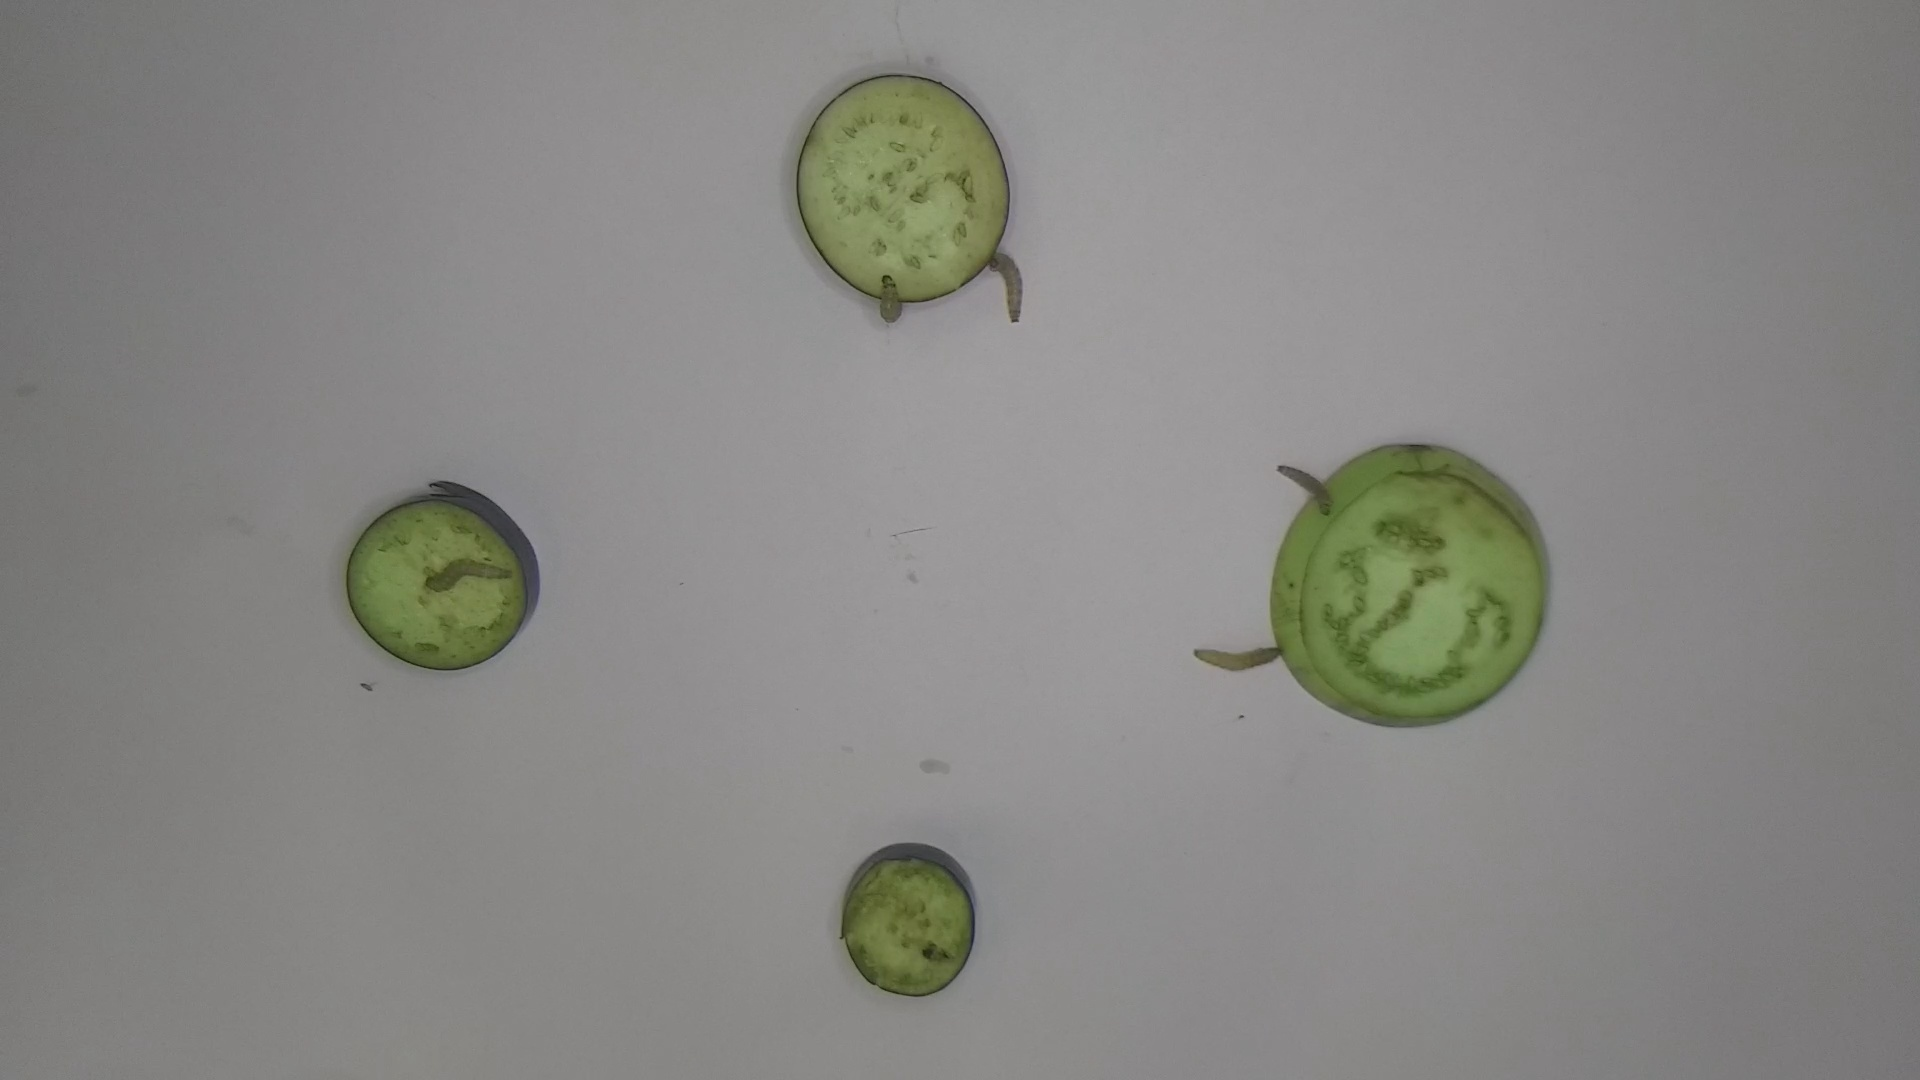efsb: (1259, 455, 1344, 525), (1188, 636, 1296, 688), (976, 243, 1033, 336), (861, 255, 919, 334), (418, 551, 520, 596)
eggplant: (1254, 422, 1557, 735), (786, 66, 1027, 314), (319, 458, 558, 680), (829, 835, 984, 1014)
